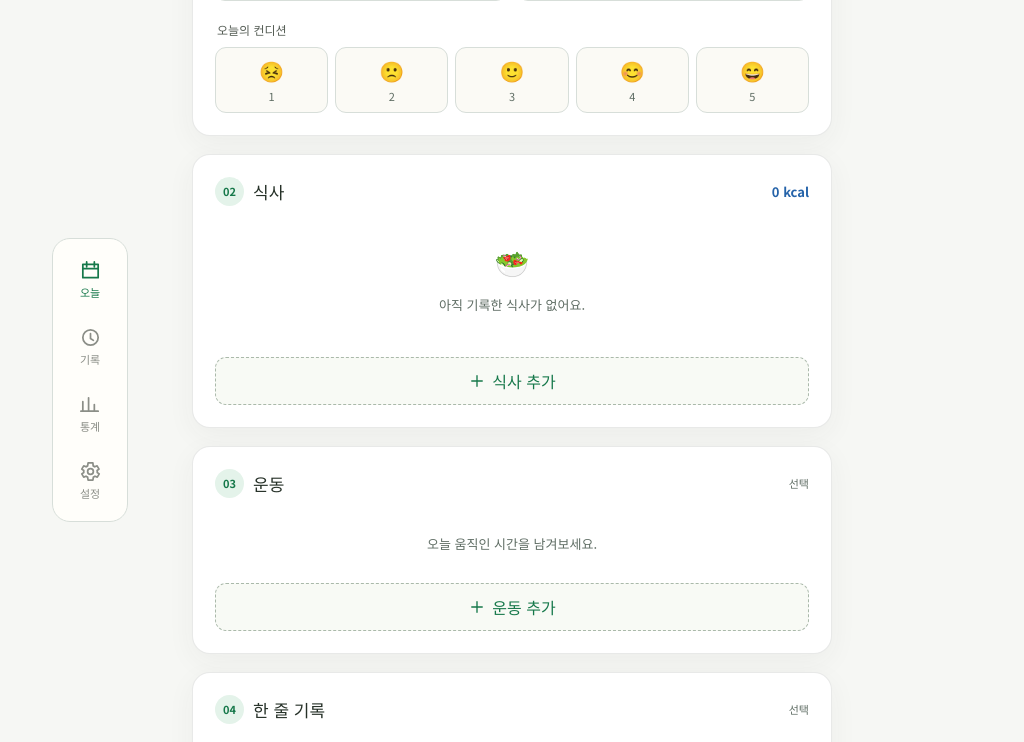
Test case: App › adds a meal and updates the calorie summary
(page scrolled)
Click the button "식사 추가": point(512, 381) x1=215 y1=357 x2=809 y2=405
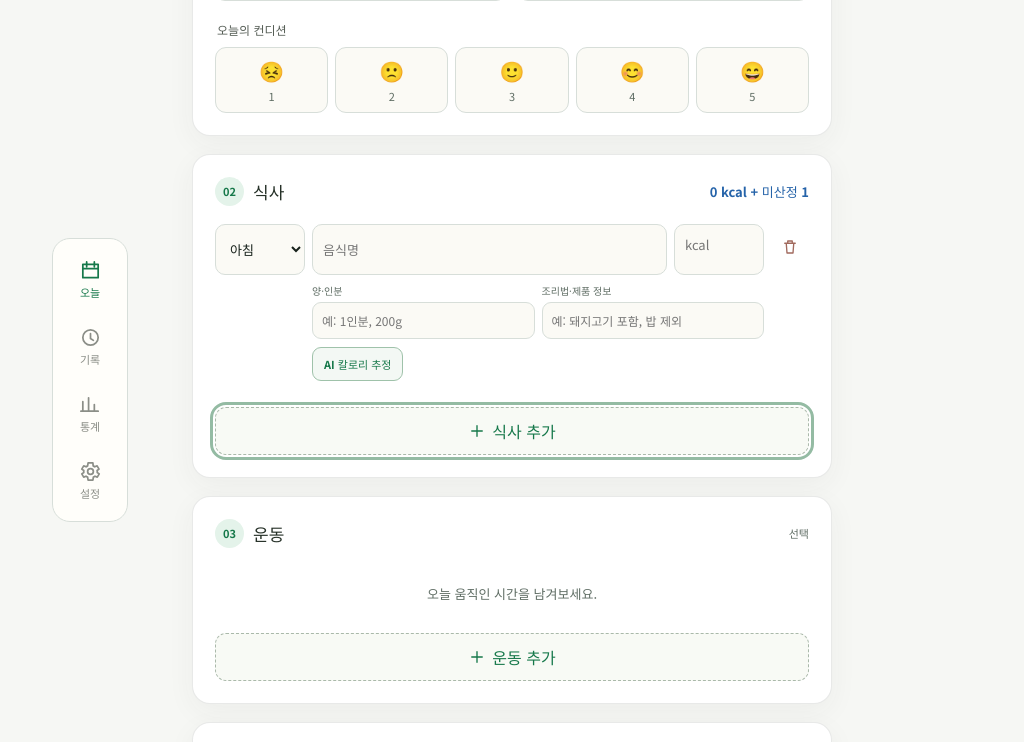
In the field named "식사 1 이름": point(490, 249) x1=312 y1=224 x2=667 y2=275, type "현미밥"
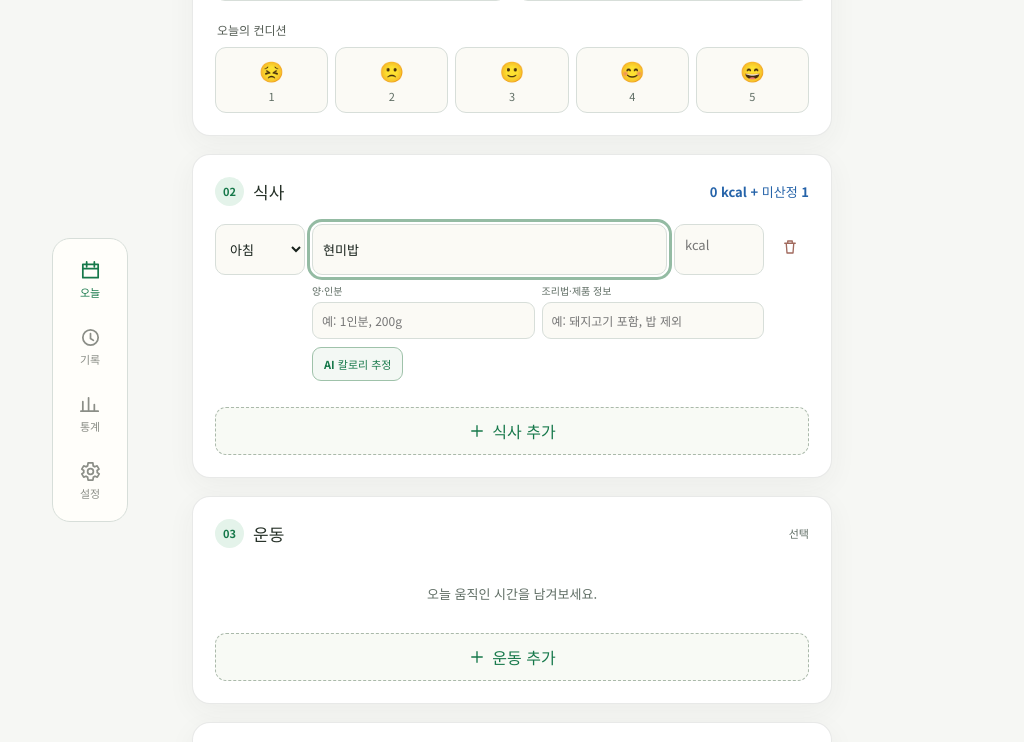
In the number field named "식사 1 칼로리": point(719, 249) x1=674 y1=224 x2=764 y2=275, type "350"
(page scrolled)
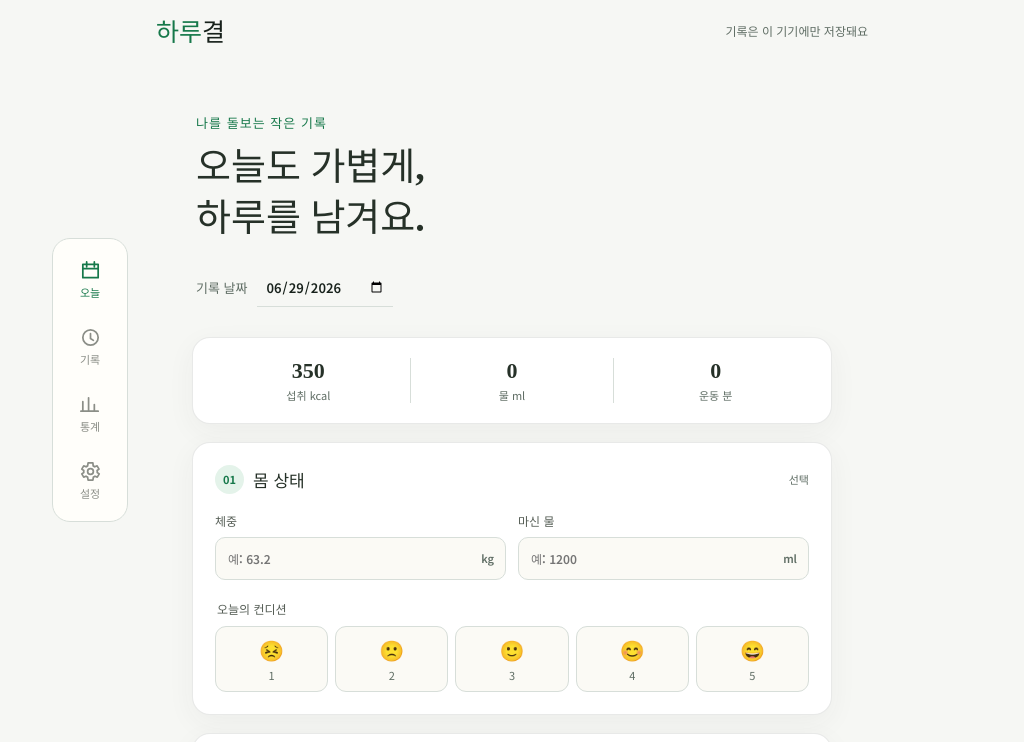
expect the element named "오늘 요약" shows "350": met, box x1=292 y1=358 x2=325 y2=383
